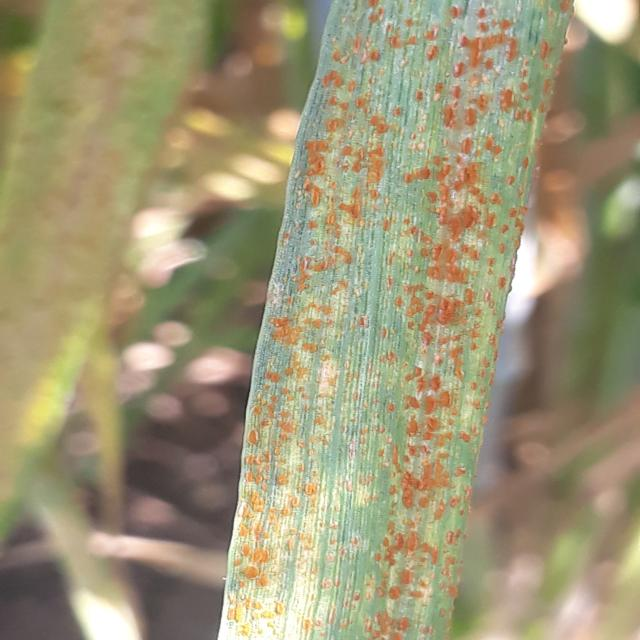orang_rust: (215, 0, 576, 640)
